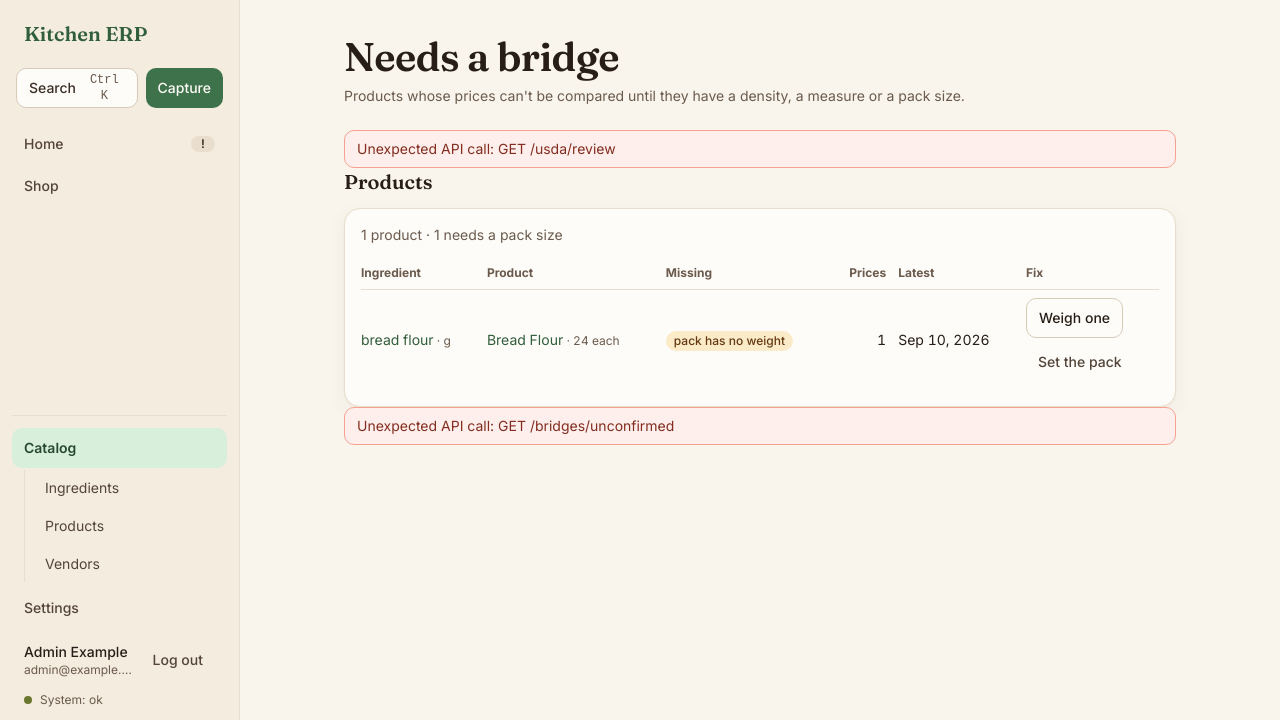
needs a bridge › checks the pack before saving, refuses a pack in pieces, and closes on Escape
Expected: the row with test id "needs-bridge" shows "Bread Flour · 24 each", 361,290 -> 1159,390
Expected: the row with test id "needs-bridge" shows "pack has no weight", 674,332 -> 785,348
Click the button "Set the pack" at (1080, 362), box 1026,342 -> 1134,382
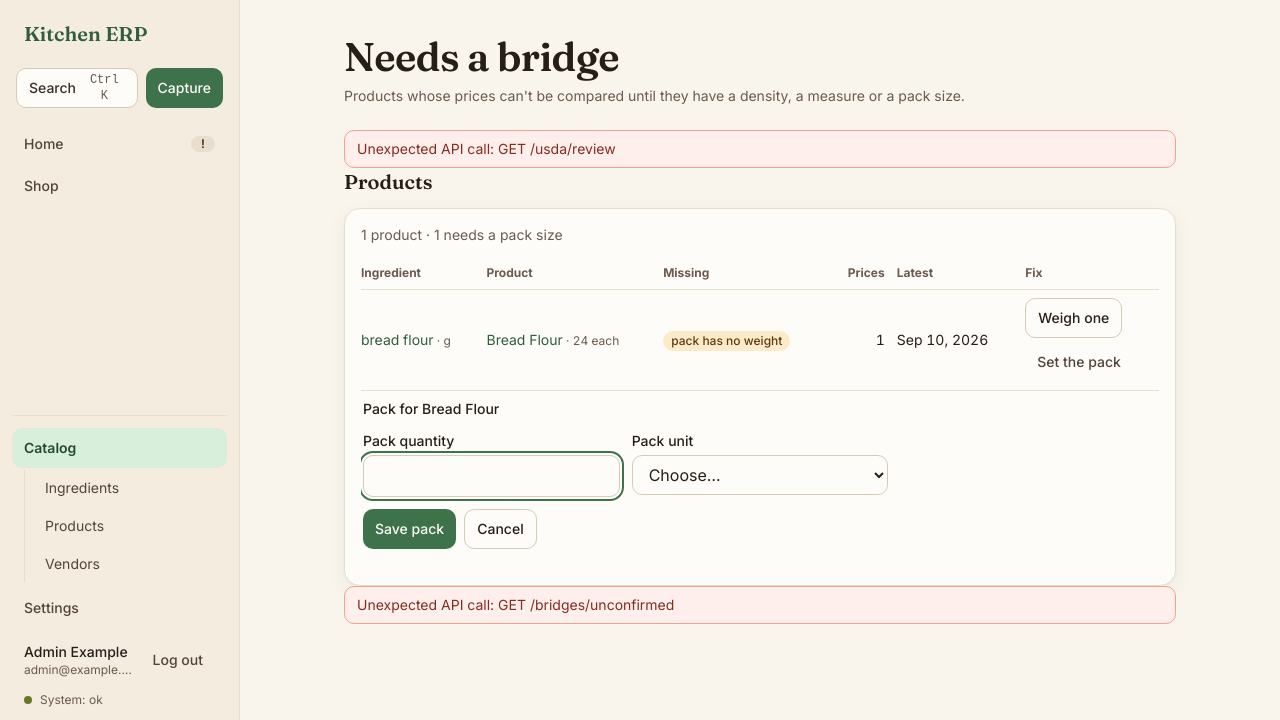
Click the button "Save pack" at (410, 529), box 363,509 -> 456,549
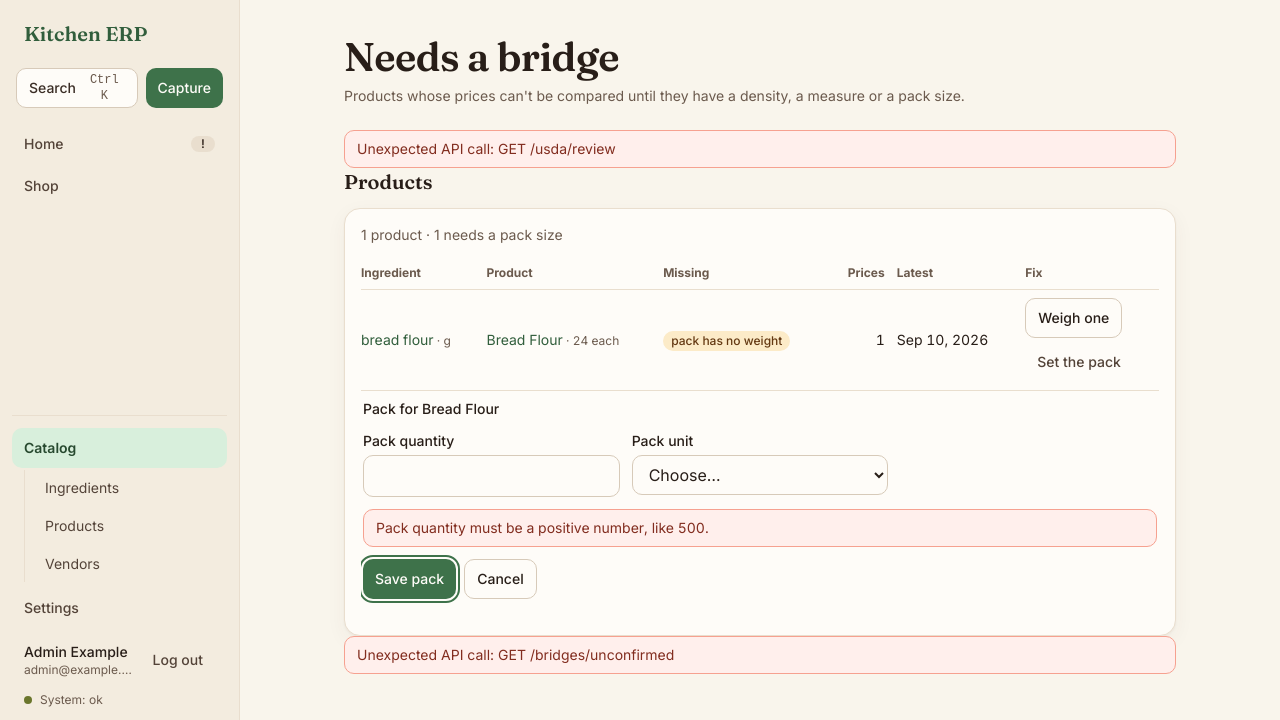
Expected: the text "Pack quantity must be a positive number, like 500." is shown, 363,509 -> 1157,547
Type "2" into the field labelled "Pack quantity" at (491, 476), box 363,455 -> 620,497
Click the button "Save pack" at (410, 579), box 363,559 -> 456,599
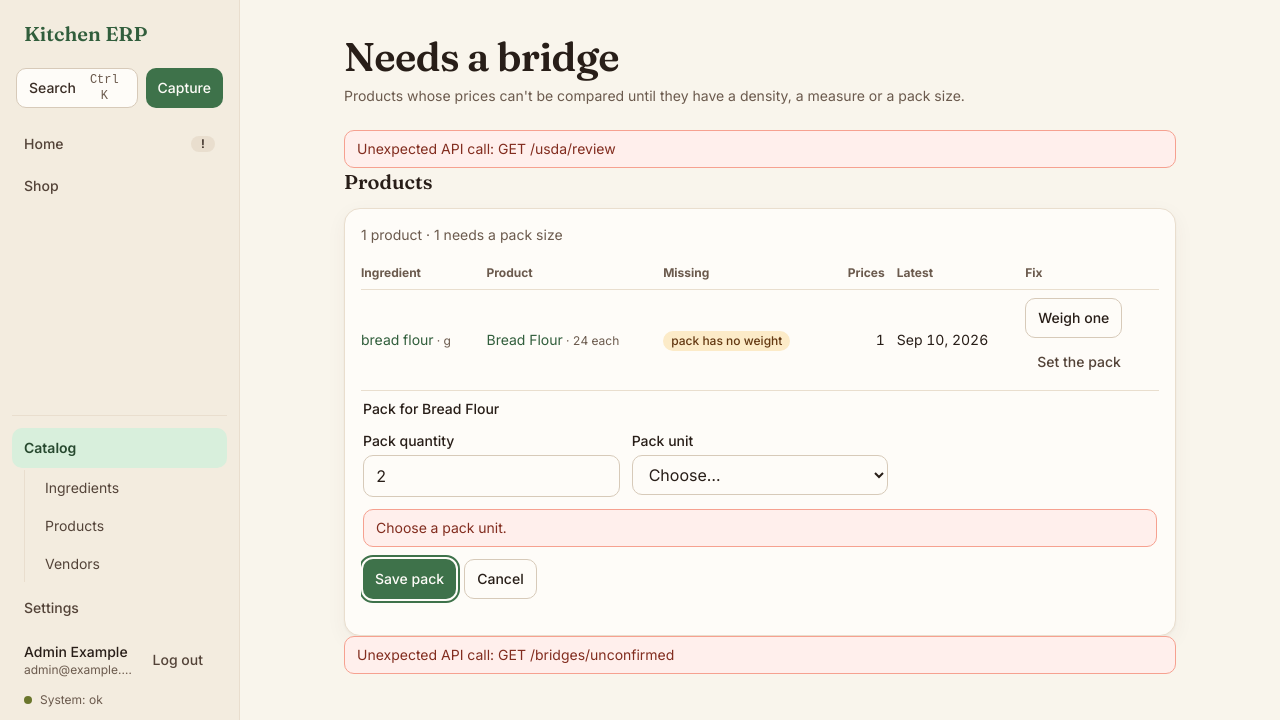
Expected: the text "Choose a pack unit." is shown, 363,509 -> 1157,547
Select "each" in the dropdown labelled "Pack unit" at (760, 475), box 632,455 -> 888,495
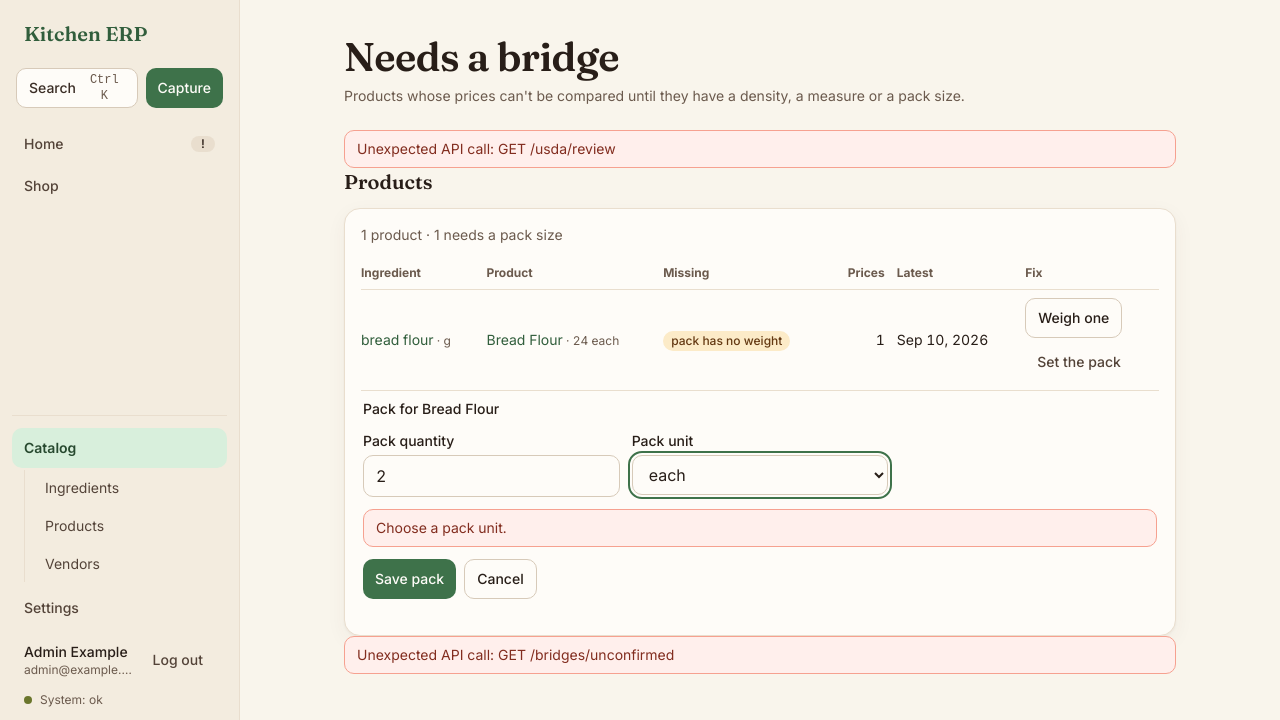
Click the button "Save pack" at (410, 579), box 363,559 -> 456,599
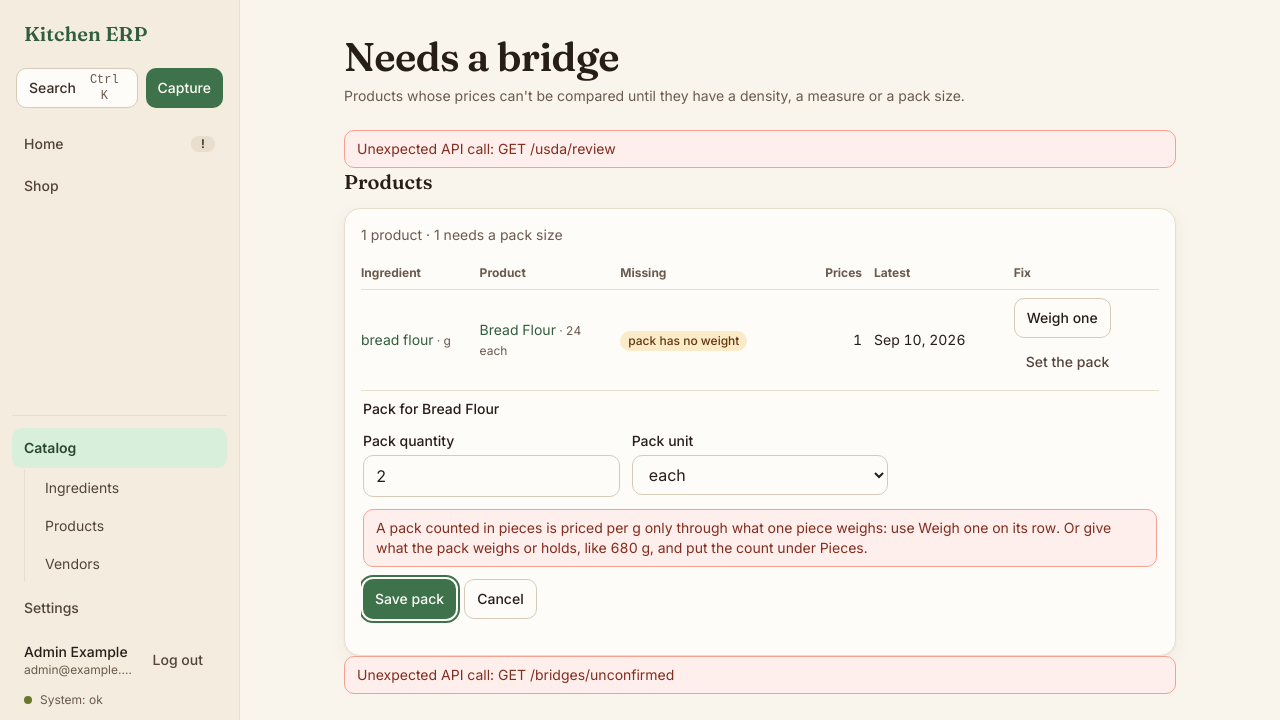
Expected: the text "A pack counted in pieces is priced per g only through what one piece weighs" is shown, 376,519 -> 1111,556
Press Escape
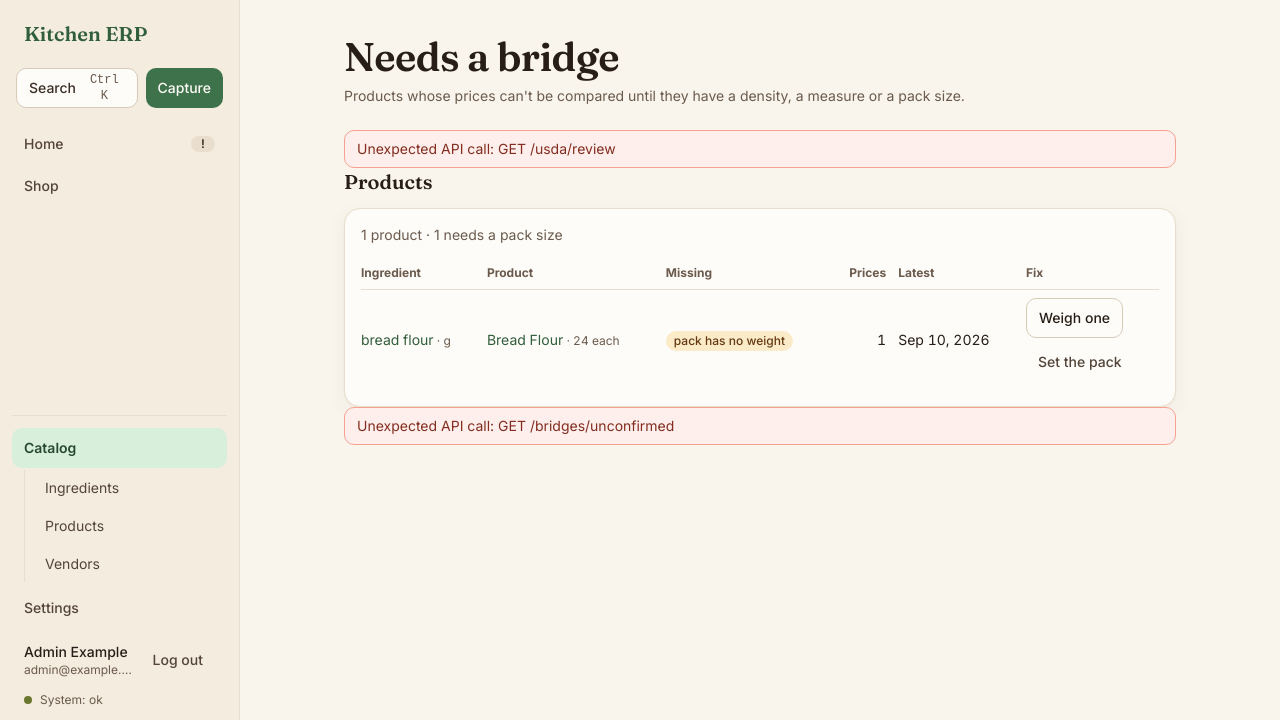
Expected: the text "Pack for Bread Flour" is gone
